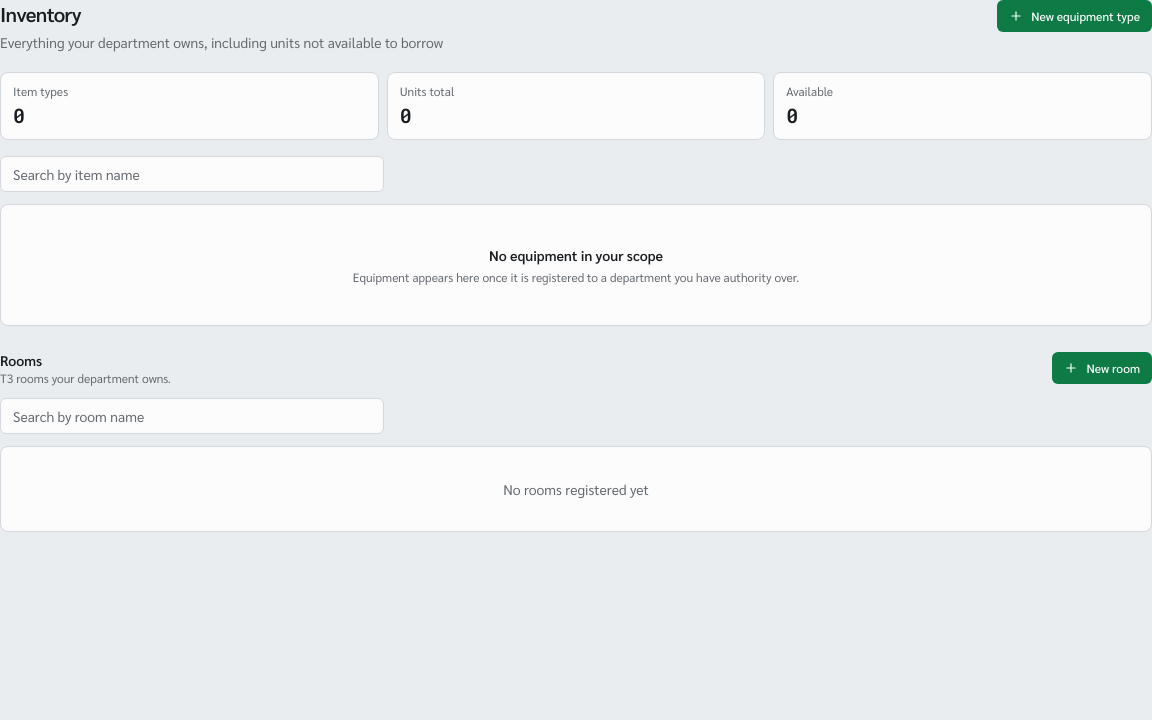
Scenario: Staff inventory: rooms section create dialog › defaults hours and the lunch break to values on the 30-minute grid
This screenshot has width=1152, height=720.
Click the button "New room". click: (1102, 368)
box: left=1052, top=352, right=1151, bottom=384
(page scrolled)
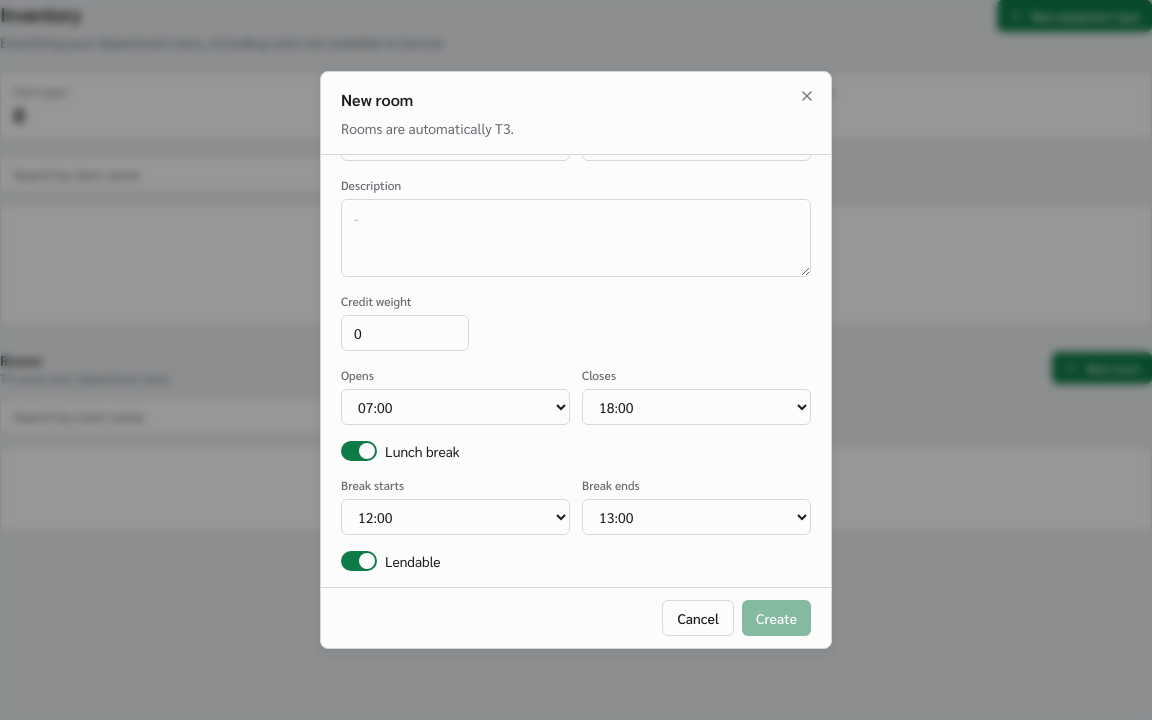
Check: the dropdown below "Opens" shows "07:00", box left=341, top=389, right=570, bottom=425
Check: the dropdown below "Closes" shows "18:00", box left=582, top=389, right=811, bottom=425
